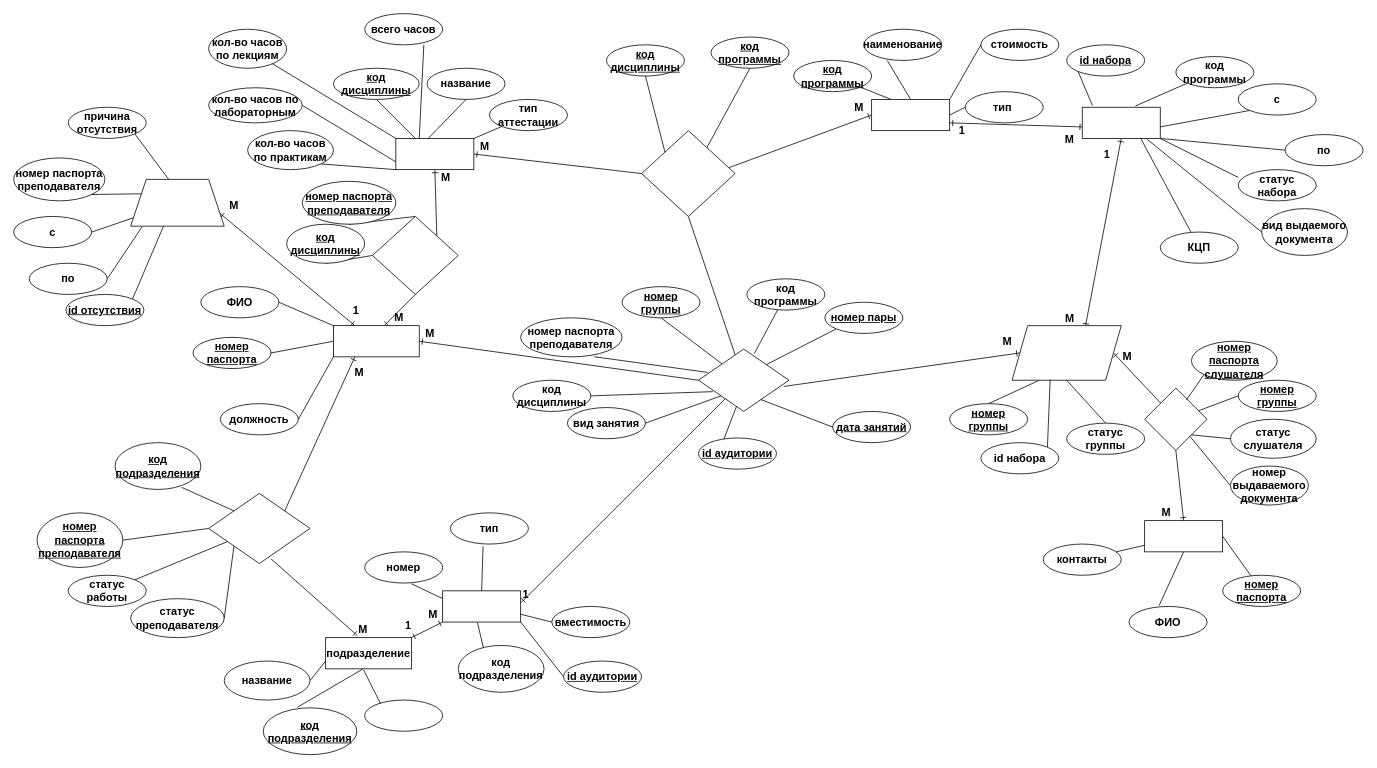
Image size: 1377x768. Some labels were removed from this diagram. Each missing label, with the box of its shape:
адрес: (364, 699, 443, 731)
аудитория: (442, 590, 521, 622)
график больничных и отпусков: (130, 179, 224, 226)
группа обучения: (1011, 325, 1121, 380)
дисциплина: (395, 138, 474, 170)
дисциплина_ на_программе: (641, 130, 735, 216)
занятие: (698, 348, 789, 411)
может преподавать: (372, 216, 458, 294)
набор_ на_программу: (1081, 106, 1160, 138)
преподаватель: (333, 325, 419, 357)
программа обучения: (871, 99, 950, 131)
слушатель: (1144, 520, 1223, 552)
состоит в группе: (1144, 387, 1207, 450)
состоит в подразделении: (208, 493, 310, 564)
